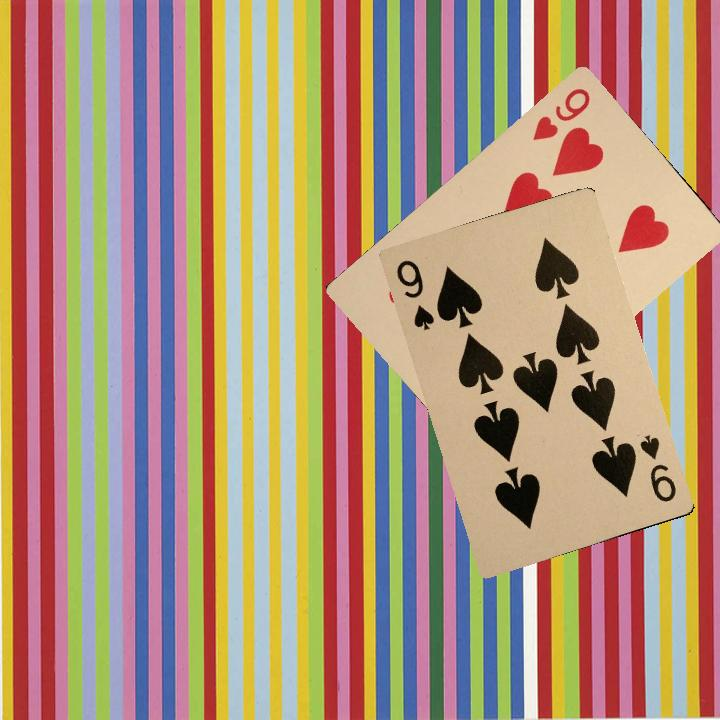9h: (528, 83, 593, 144)
9s: (392, 255, 437, 333), (635, 430, 679, 505)
